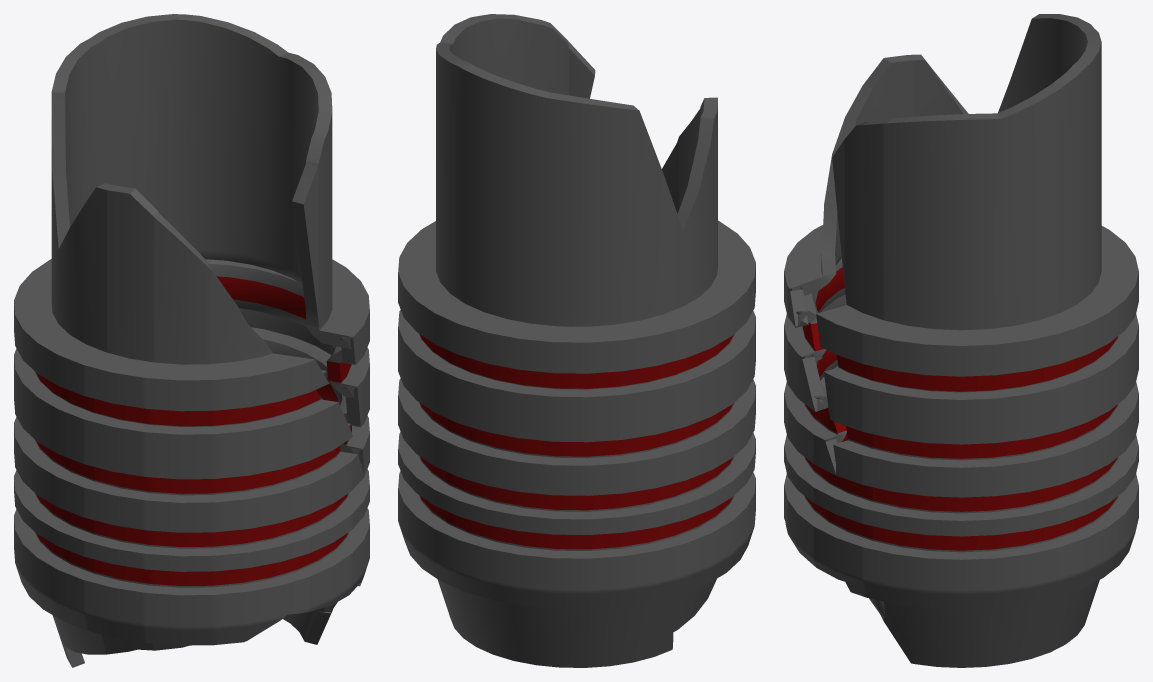
File: PowerRod_destroyed_piece03.fbx
3 views of the same model, side by side, from view 1: azimuth 30°, elevation 25°; view 2: azimuth 150°, elevation 25°; view 3: azimuth 270°, elevation 25° (orthographic).
Parts seen in each view (by area): view 1: polySurface51; view 2: polySurface51; view 3: polySurface51.
Boxes of the visible parts, left/top/right/bottom form: polySurface51: left=14, top=14, right=369, bottom=667; polySurface51: left=398, top=14, right=755, bottom=667; polySurface51: left=784, top=14, right=1138, bottom=667.
Bounding box in the file's own units: 26.04 × 46.55 × 26.04.
